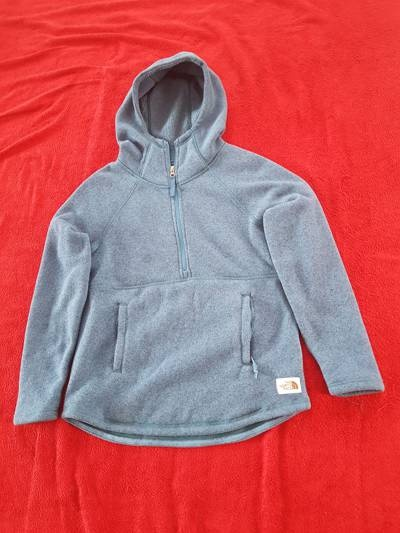Hoodie: (2, 40, 389, 434)
